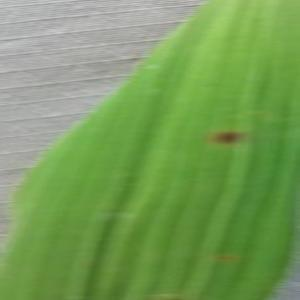0 BrownSpot: (205, 118, 252, 156)
